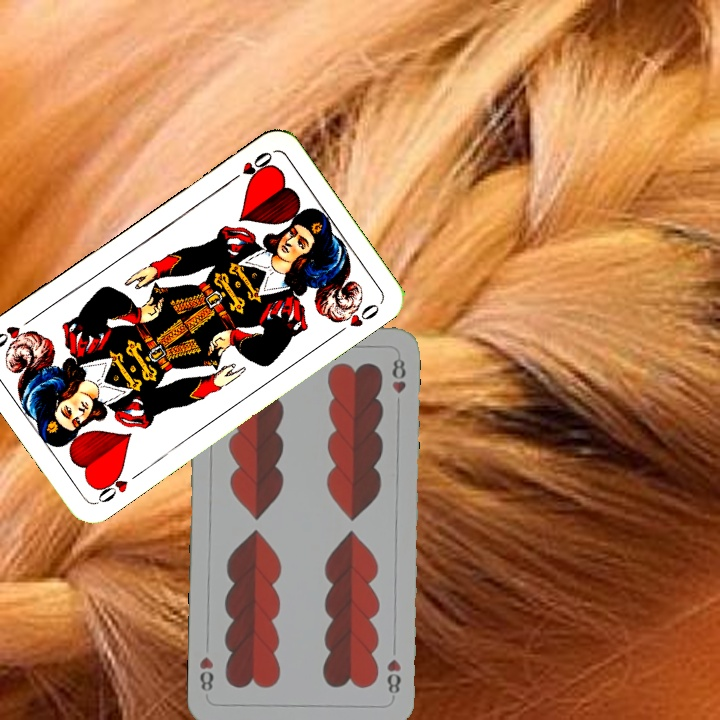H8: (382, 655, 403, 701)
HO: (91, 465, 145, 506), (223, 147, 275, 187)
